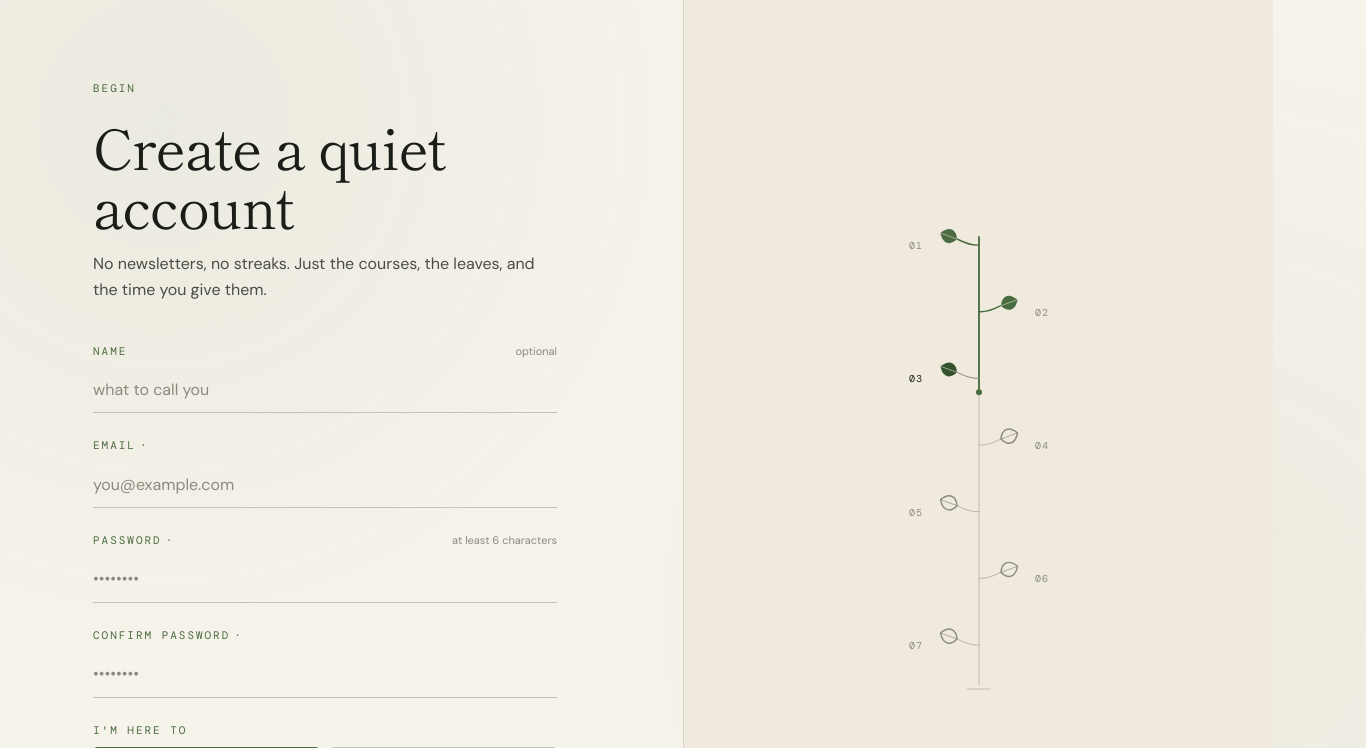
Register › shows error when passwords do not match
Type "a@b.com" into the field labelled "Email·" at x=325, y=485, box [93,462,557,508]
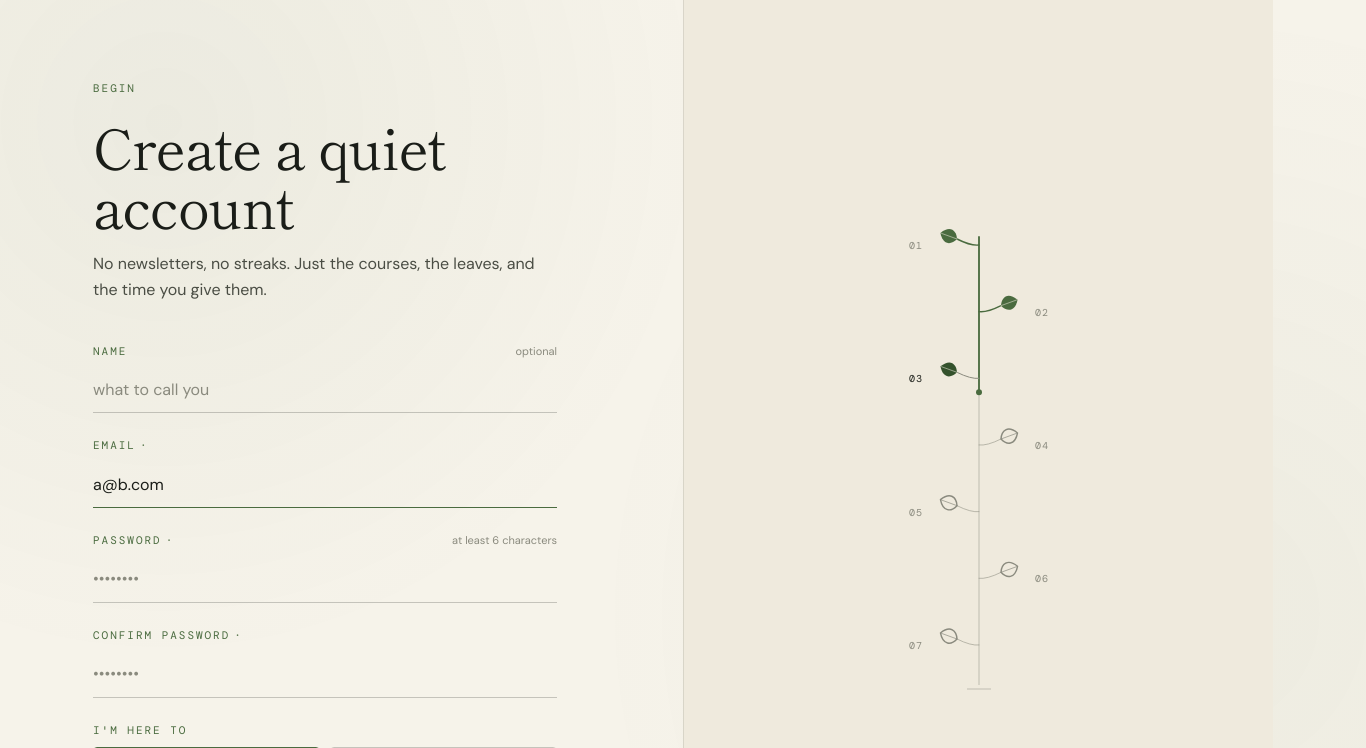
Type "abcdef" into the password field labelled "Password· at least 6 characters" at x=325, y=580, box [93,557,557,603]
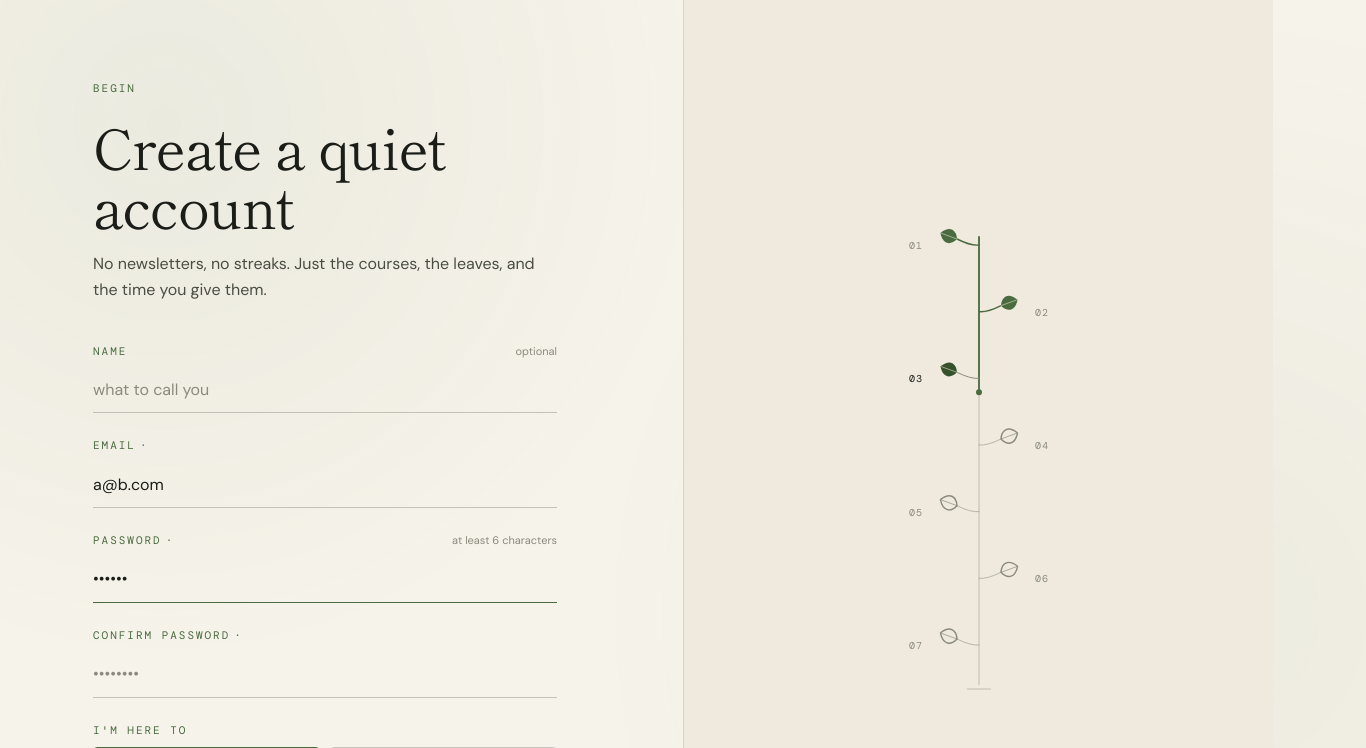
Type "xyzxyz" into the password field labelled "Confirm password·" at x=325, y=675, box [93,652,557,698]
(page scrolled)
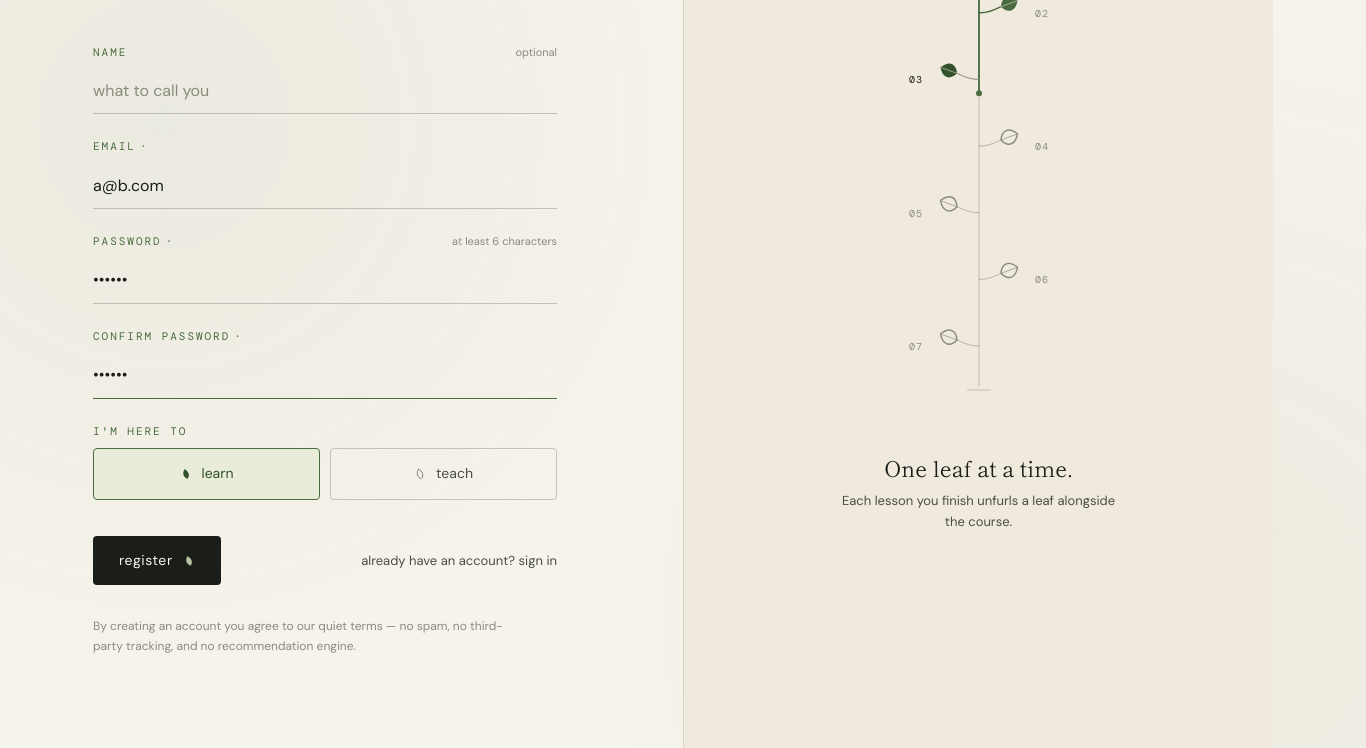
Click the button "register" at x=157, y=561, box [93,536,221,586]
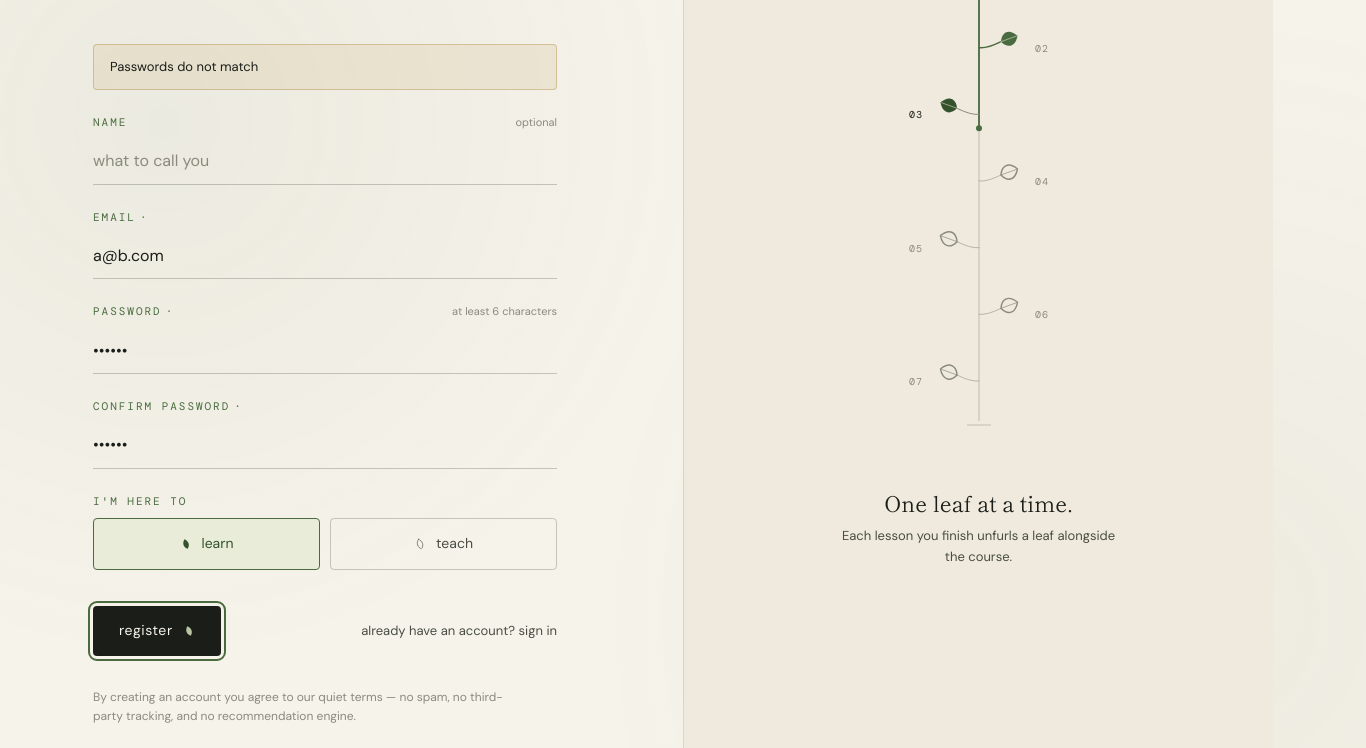
Check: the message shows "do not match", box [110,58,258,75]
